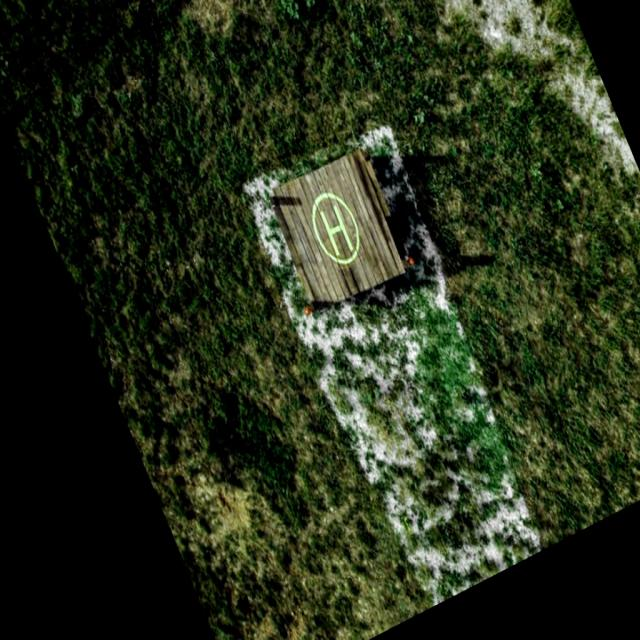helipad: (309, 190, 360, 265)
